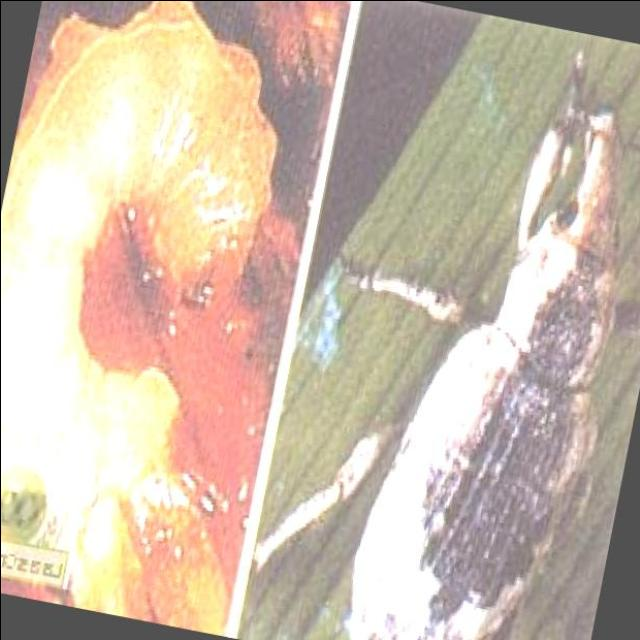ricebug: (347, 59, 620, 640)
